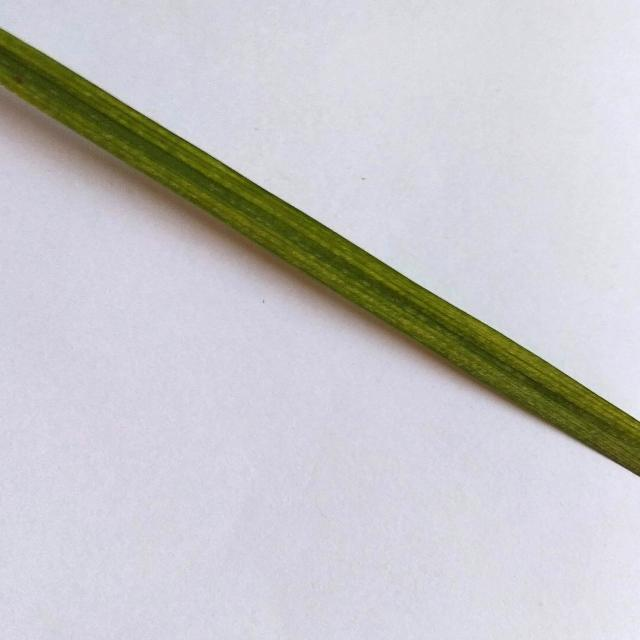Rice_Healthy: (0, 29, 640, 475)
